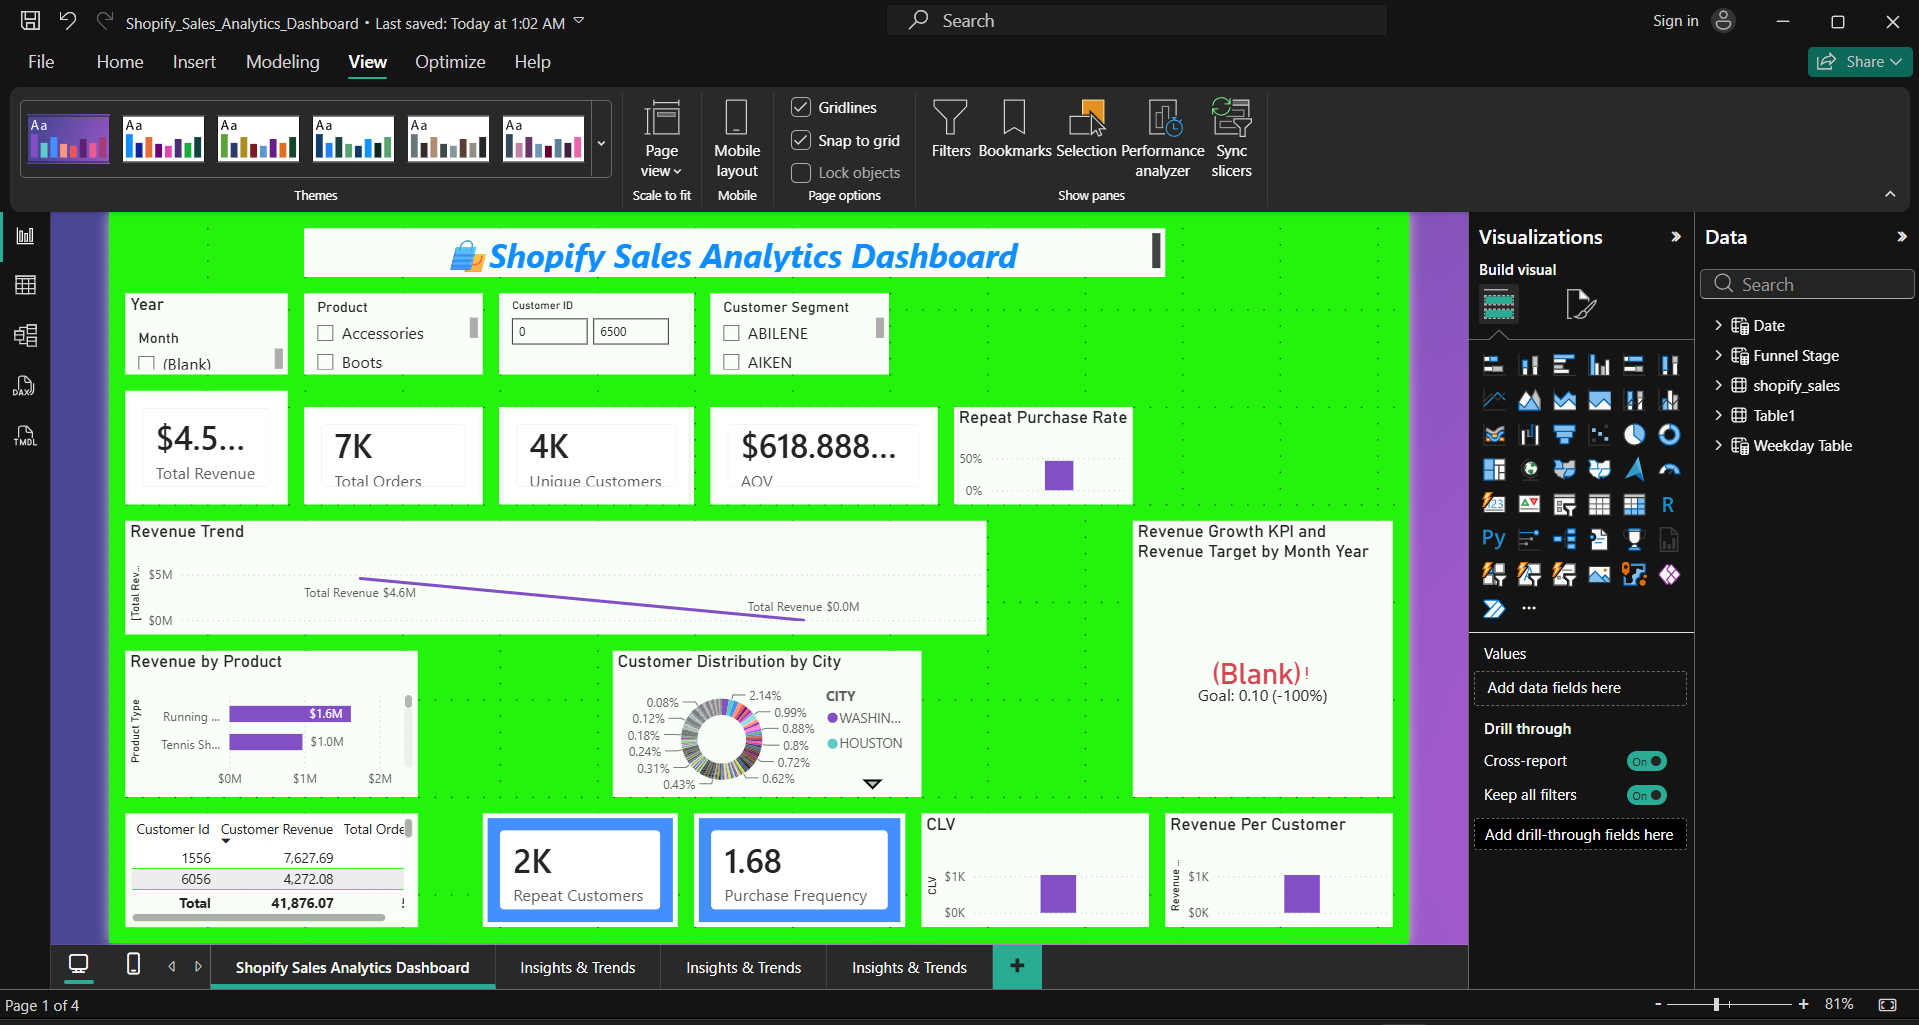

What the dashboard file says about the page in this screenshot:
{"tool":"powerbi","page":{"name":" Shopify Sales Analytics Dashboard","canvas":[1280,720],"ordinal":0},"visuals":[{"type":"columnChart","fields":{"Y":["Date.Revenue Per Customer"]},"box":[1072,576,208,144],"z":0},{"type":"columnChart","fields":{"Y":["Date.CLV"]},"box":[784,576,240,144],"z":1000},{"type":"kpi","fields":{"Indicator":["Date.Revenue Growth %"]},"box":[1008,272,256,272],"z":2000},{"type":"cardVisual","fields":{"Data":["Date.Total Revenue"]},"box":[0,176,160,112],"z":3000},{"type":"cardVisual","fields":{"Data":["Date.Total Orders"]},"box":[176,176,180,110],"z":4000},{"type":"cardVisual","fields":{"Data":["Date.AOV"]},"box":[560,176,180,110],"z":5000},{"type":"cardVisual","fields":{"Data":["Date.Unique Customers"]},"box":[368,176,180,110],"z":6000},{"type":"columnChart","fields":{"Y":["Date.Repeat Purchase Rate"]},"box":[768,176,180,110],"z":7000},{"type":"lineChart","title":"Revenue Trend","fields":{"Category":["Date.Month Year"],"Y":["Date.Total Revenue"]},"box":[0,304,848,112],"z":8000},{"type":"clusteredBarChart","title":"Revenue by Product","fields":{"Category":["shopify_sales.Product Type"],"Y":["Date.Total Revenue"]},"box":[16,432,288,144],"z":9000},{"type":"donutChart","title":"Customer Distribution by City","fields":{"Category":["shopify_sales.CITY"],"Y":["shopify_sales.Customer Count"]},"box":[512,432,288,128],"z":10000},{"type":"tableEx","fields":{"Values":["shopify_sales.Customer Id","Date.Customer Revenue","Date.Total Orders"]},"box":[16,592,336,112],"z":11000},{"type":"slicer","title":"Year","fields":{"Values":["Date.Month Year"]},"box":[0,64,128,96],"z":12000},{"type":"slicer","fields":{"Values":["shopify_sales.Product Type"]},"box":[144,64,144,80],"z":13000},{"type":"slicer","fields":{"Values":["shopify_sales.Customer Id"]},"box":[320,64,160,112],"z":14000},{"type":"slicer","fields":{"Values":["shopify_sales.CITY"]},"box":[512,64,176,96],"z":15000},{"type":"cardVisual","fields":{"Data":["Date.Repeat Customers"]},"box":[352,576,224,144],"z":16000},{"type":"cardVisual","fields":{"Data":["Date.Purchase Frequency"]},"box":[560,576,224,144],"z":17000},{"type":"textbox","box":[192,0,848,48],"z":18000}]}

Visuals, with their boxes on the page's 1280x720 design canvas (x1, y1, x2, y2). These are canvas units, not pixel positions in the 1919x1025 screenshot, which may show the page scaled, cropped or inside an application window:
columnChart - Date.Revenue Per Customer: x1=1072 y1=576 x2=1280 y2=720
columnChart - Date.CLV: x1=784 y1=576 x2=1024 y2=720
kpi - Date.Revenue Growth %: x1=1008 y1=272 x2=1264 y2=544
cardVisual - Date.Total Revenue: x1=0 y1=176 x2=160 y2=288
cardVisual - Date.Total Orders: x1=176 y1=176 x2=356 y2=286
cardVisual - Date.AOV: x1=560 y1=176 x2=740 y2=286
cardVisual - Date.Unique Customers: x1=368 y1=176 x2=548 y2=286
columnChart - Date.Repeat Purchase Rate: x1=768 y1=176 x2=948 y2=286
"Revenue Trend" lineChart: x1=0 y1=304 x2=848 y2=416
"Revenue by Product" clusteredBarChart: x1=16 y1=432 x2=304 y2=576
"Customer Distribution by City" donutChart: x1=512 y1=432 x2=800 y2=560
tableEx - shopify_sales.Customer Id x Date.Customer Revenue: x1=16 y1=592 x2=352 y2=704
"Year" slicer: x1=0 y1=64 x2=128 y2=160
slicer - shopify_sales.Product Type: x1=144 y1=64 x2=288 y2=144
slicer - shopify_sales.Customer Id: x1=320 y1=64 x2=480 y2=176
slicer - shopify_sales.CITY: x1=512 y1=64 x2=688 y2=160
cardVisual - Date.Repeat Customers: x1=352 y1=576 x2=576 y2=720
cardVisual - Date.Purchase Frequency: x1=560 y1=576 x2=784 y2=720
textbox: x1=192 y1=0 x2=1040 y2=48
